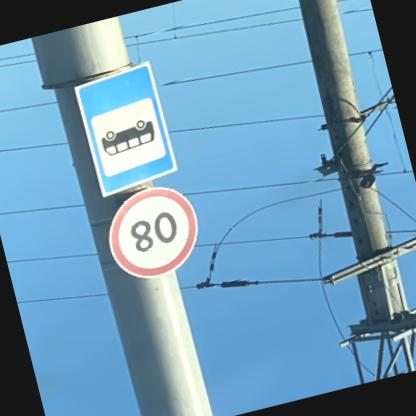speedlimit: (97, 181, 206, 288)
